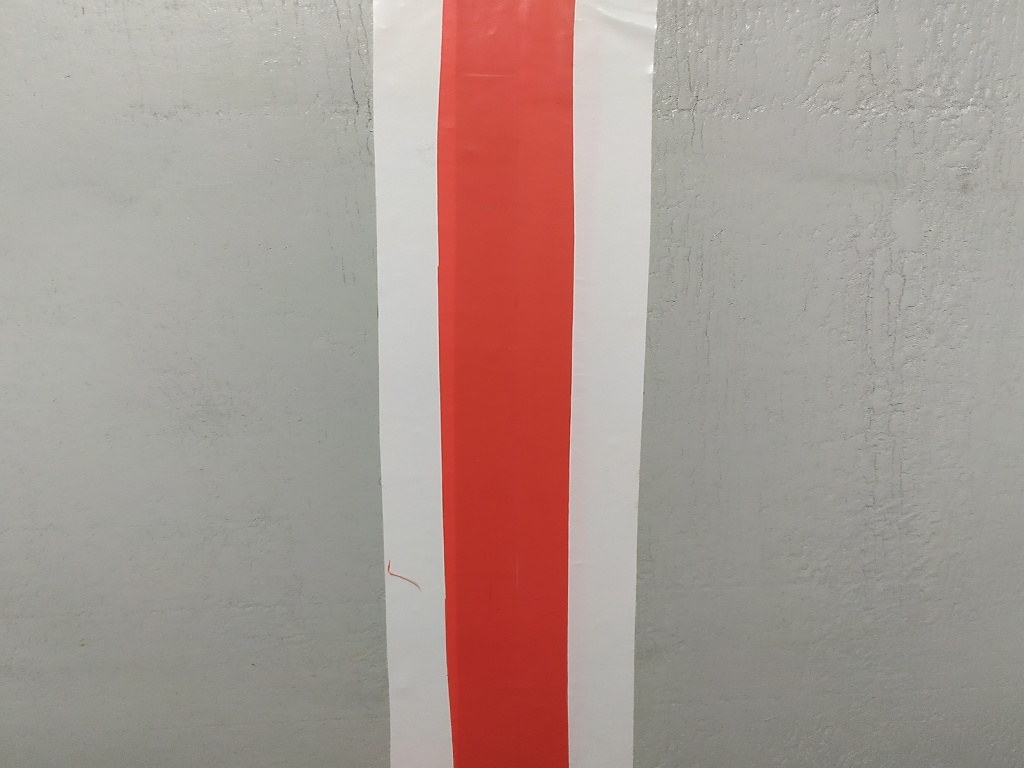reta: (366, 9, 646, 768)
